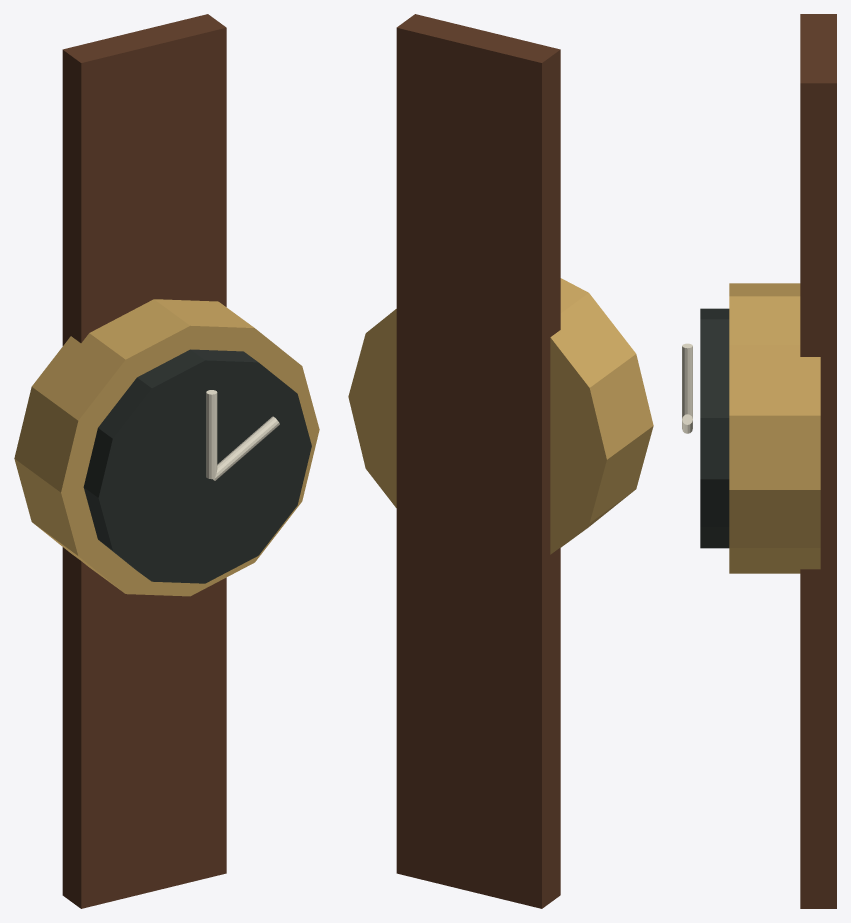
The model's file is premium_watch.fbx.
The picture shows the model from 3 angles, left to right: view 1: azimuth 30°, elevation 25°; view 2: azimuth 150°, elevation 25°; view 3: azimuth 270°, elevation 25°; orthographic projection. The views are drawn at different scales.
Parts seen in each view (by area): view 1: premium_watch; view 2: premium_watch; view 3: premium_watch.
Boxes of the visible parts, <box> form: premium_watch: <box>14,14,319,908</box>; premium_watch: <box>348,14,653,908</box>; premium_watch: <box>682,14,836,908</box>.
Bounding box in the file's own units: 8 × 25 × 4.25.
